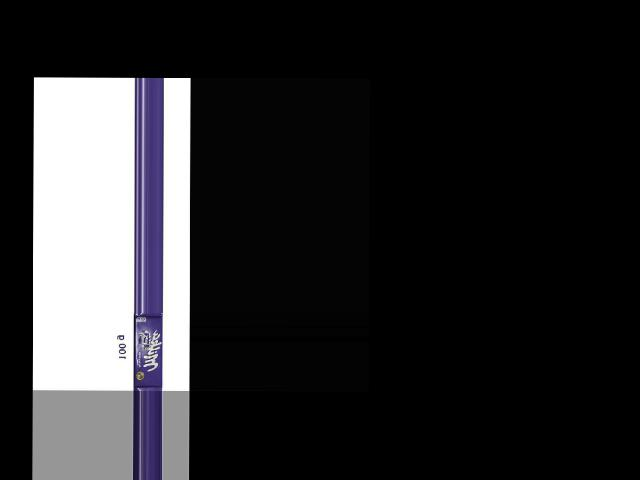chocolate: (128, 312, 163, 388)
